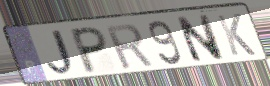9: (148, 20, 183, 66)
J: (46, 28, 81, 79)
K: (215, 12, 258, 57)
N: (173, 12, 227, 65)
P: (70, 25, 109, 77)
R: (103, 22, 156, 71)
